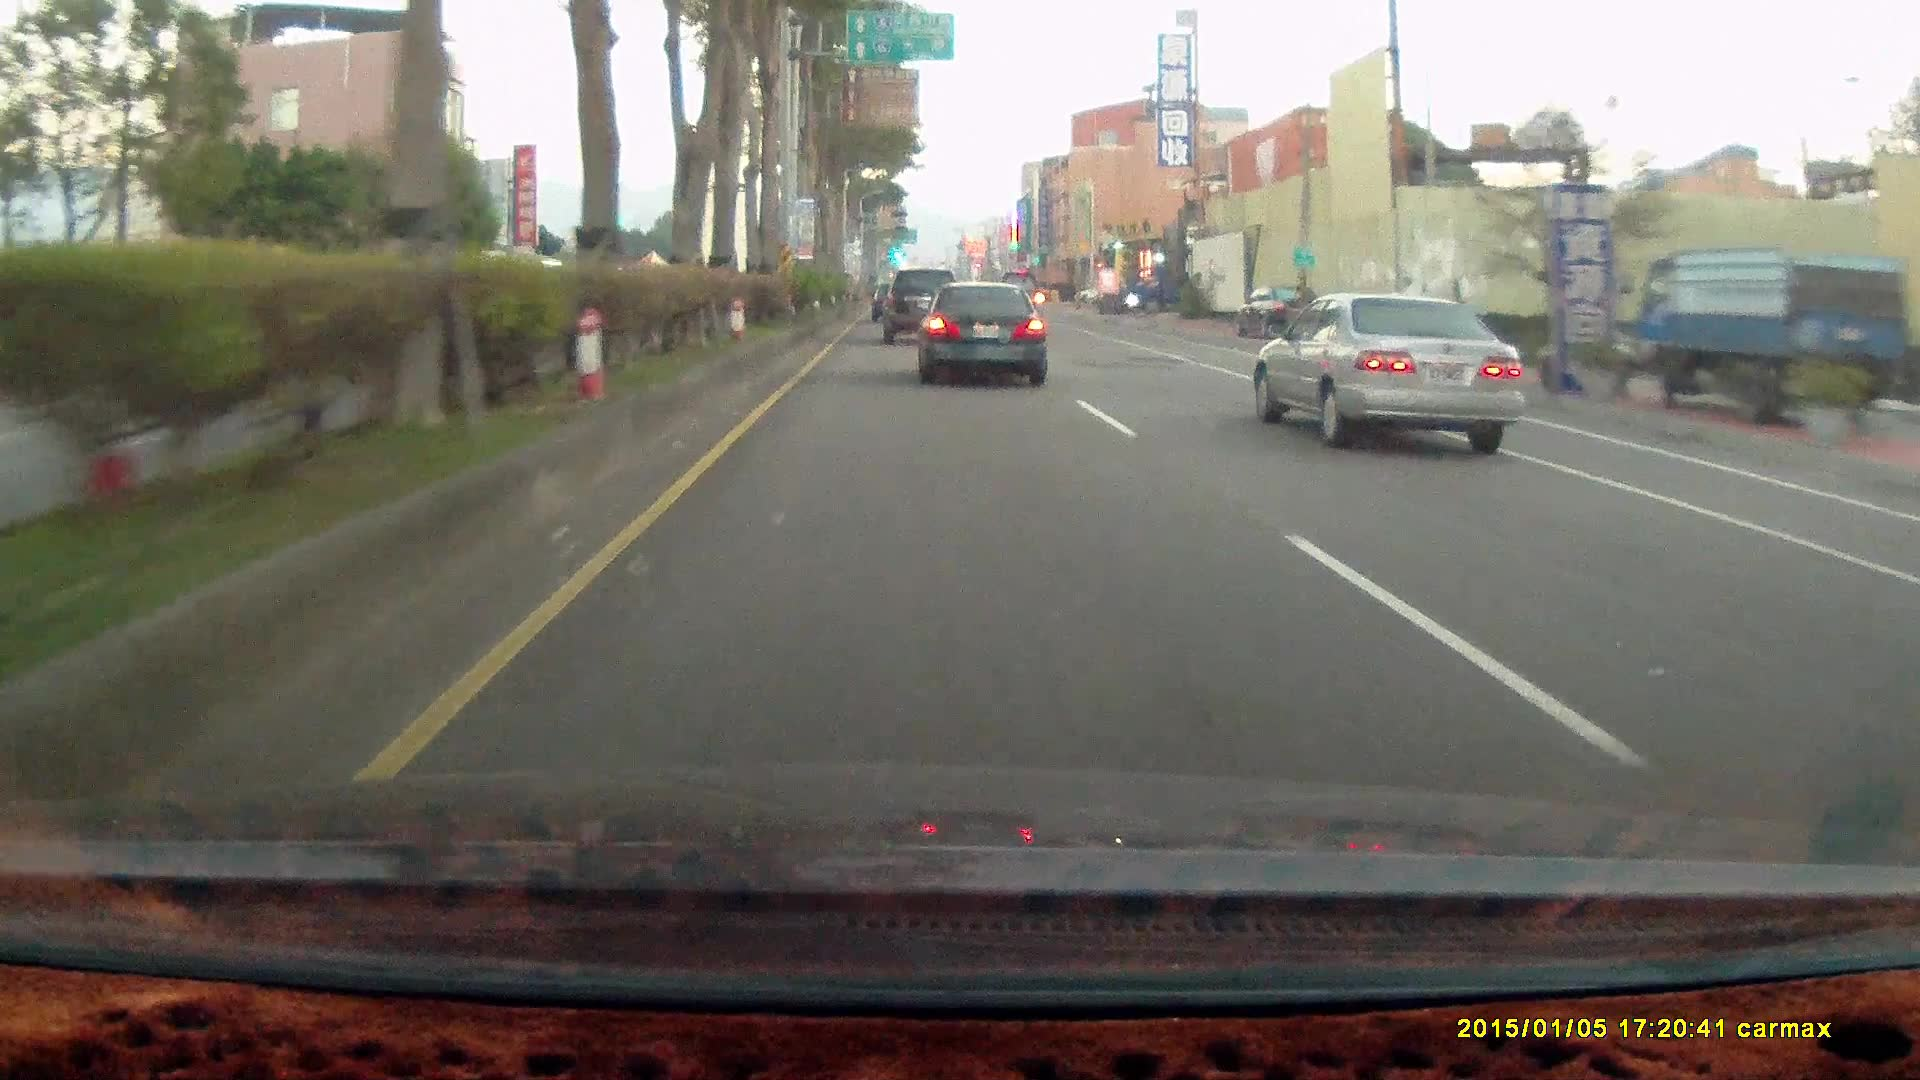vehicle: (1627, 248, 1905, 425), (1251, 291, 1524, 456), (1269, 295, 1539, 460), (913, 280, 1046, 385), (916, 286, 1048, 390), (882, 268, 963, 347), (1126, 268, 1204, 315)
